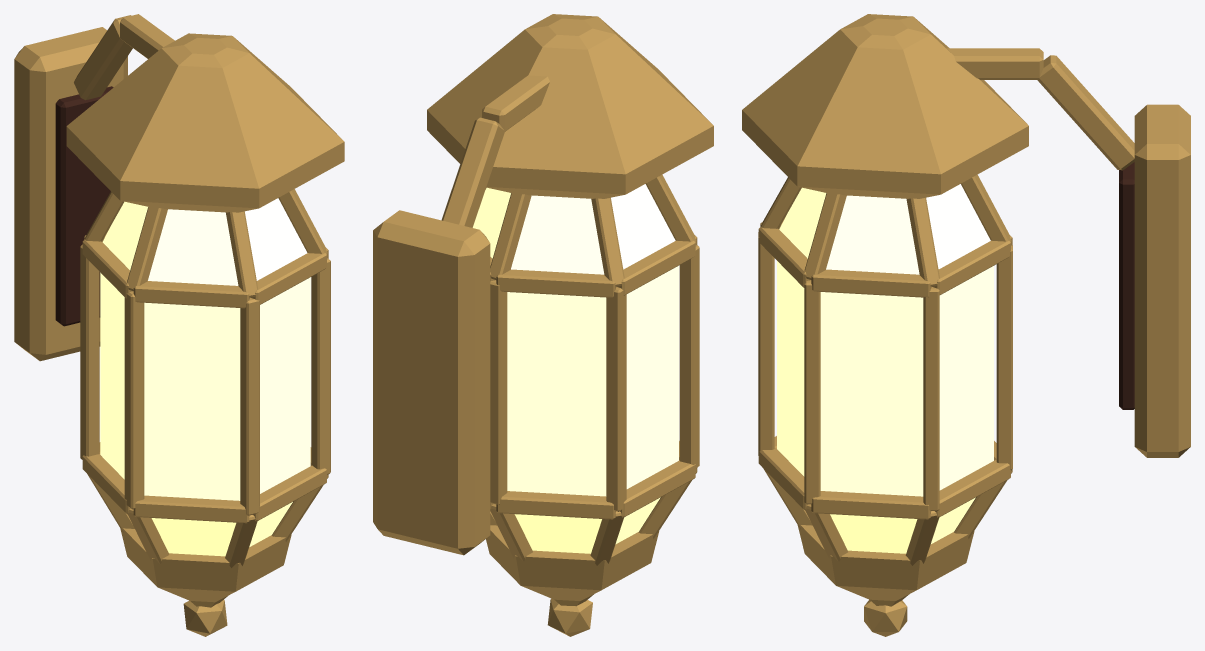
The model's file is wall_lantern.glb.
3 renders of one model, left to right at view 1: azimuth 30°, elevation 25°; view 2: azimuth 150°, elevation 25°; view 3: azimuth 270°, elevation 25°, orthographic. The views are drawn at different scales.
Visible parts, largest first — view 1: Emitting_core, Top_cap, Mount, Mount_inset, Bottom_cap, Rib_3_1, Rib_4_1, Rib_5_1, Rib_2_1, Ring_1_3, Ring_2_3, Bracket_0 (+14 smaller); view 2: Emitting_core, Mount, Top_cap, Bottom_cap, Rib_2_1, Rib_3_1, Rib_1_1, Bracket_0, Ring_2_1, Ring_1_1, Bracket_1, Ring_2_2 (+8 smaller); view 3: Emitting_core, Top_cap, Mount, Bottom_cap, Bracket_0, Mount_inset, Rib_0_1, Rib_5_1, Rib_1_1, Rib_4_1, Ring_1_5, Ring_2_5 (+13 smaller).
Boxes of the visible parts, x1,y1,x2,y2 form: Emitting_core: (100,198,310,556); Top_cap: (66,33,344,212); Mount: (14,27,127,361); Mount_inset: (55,86,113,326); Bottom_cap: (120,528,291,607); Rib_3_1: (124,291,144,509); Rib_4_1: (240,297,259,515); Rib_5_1: (311,258,330,474); Rib_2_1: (80,244,99,459); Ring_1_3: (133,495,249,523); Ring_2_3: (133,281,249,308); Bracket_0: (74,15,132,100); Emitting_core: (472,184,678,553); Mount: (373,210,490,555); Top_cap: (427,14,713,198); Bottom_cap: (486,525,659,606); Rib_2_1: (606,287,626,511); Rib_3_1: (679,245,699,468); Rib_1_1: (490,280,507,504); Bracket_0: (441,117,504,227); Ring_2_1: (496,269,616,297); Ring_1_1: (496,491,615,519); Bracket_1: (482,75,549,131); Ring_2_2: (617,240,695,295); Emitting_core: (777,184,993,553); Top_cap: (742,14,1028,198); Mount: (1134,104,1190,457); Bottom_cap: (797,525,974,606); Bracket_0: (1037,55,1134,170); Mount_inset: (1119,162,1134,409); Rib_0_1: (923,287,939,510); Rib_5_1: (804,280,820,504); Rib_1_1: (996,245,1012,470); Rib_4_1: (758,232,774,455); Ring_1_5: (811,491,931,519); Ring_2_5: (811,269,931,297).
Size of the model in its own units: 0.2826 by 0.7108 by 0.4742.
